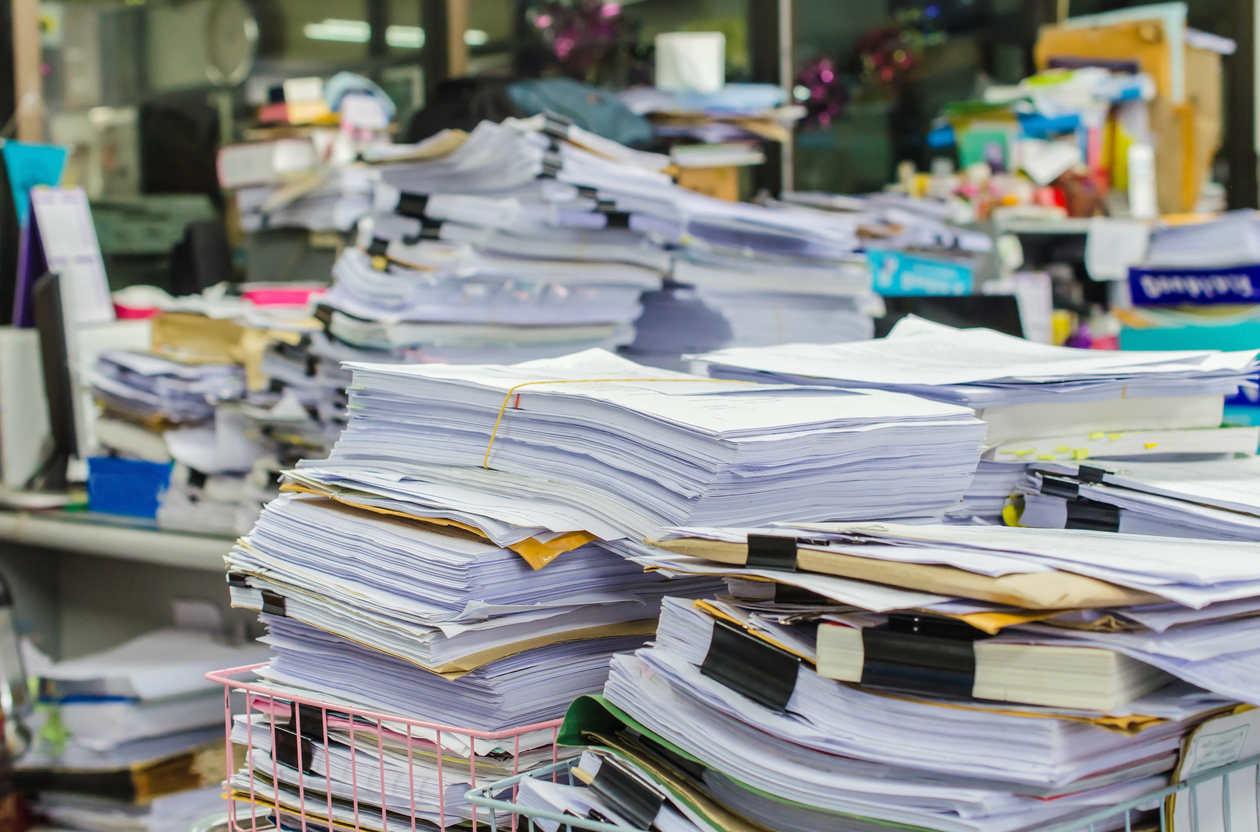paper: (656, 276, 1260, 442)
